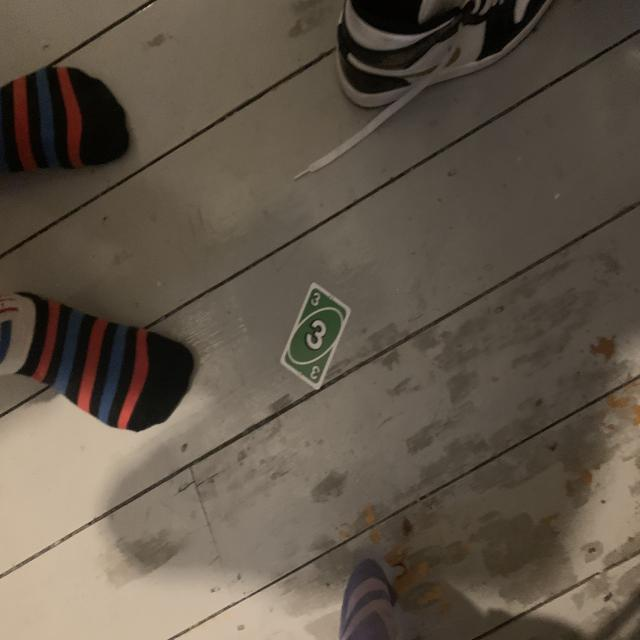lgreen-3: (309, 291, 322, 308)
